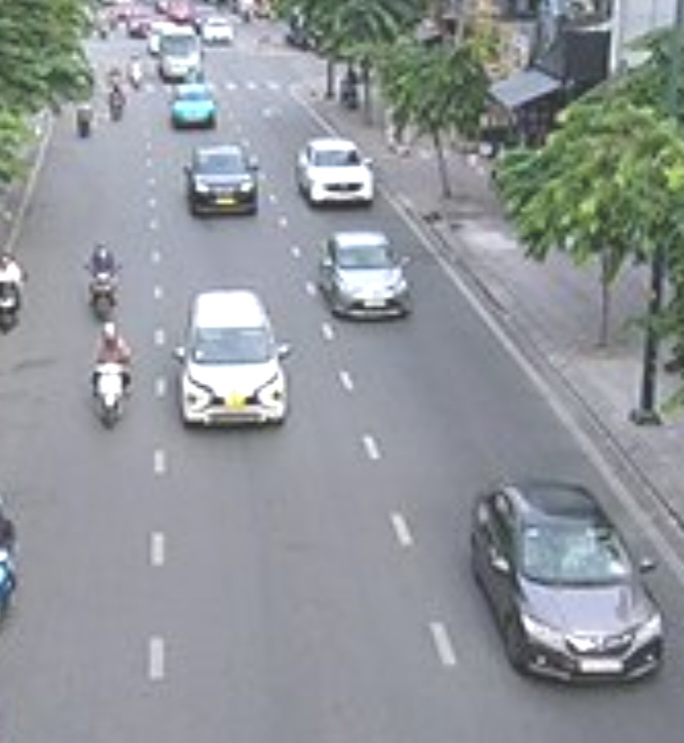car: (471, 473, 664, 684), (177, 288, 287, 432), (318, 231, 412, 322), (296, 138, 376, 206), (186, 143, 260, 216), (169, 85, 215, 129)
